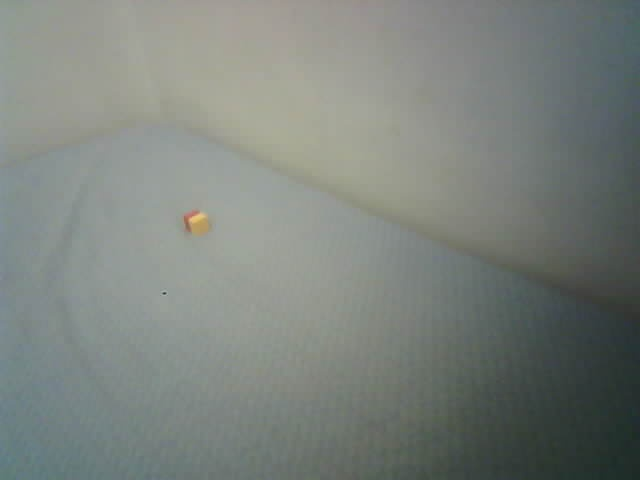lego: (183, 209, 210, 238)
